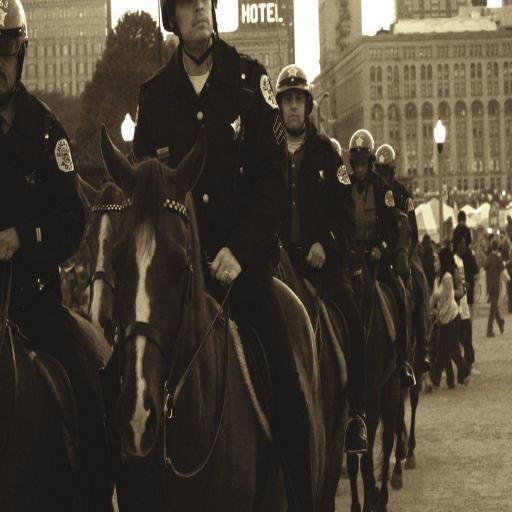horse: (0, 121, 430, 511)
